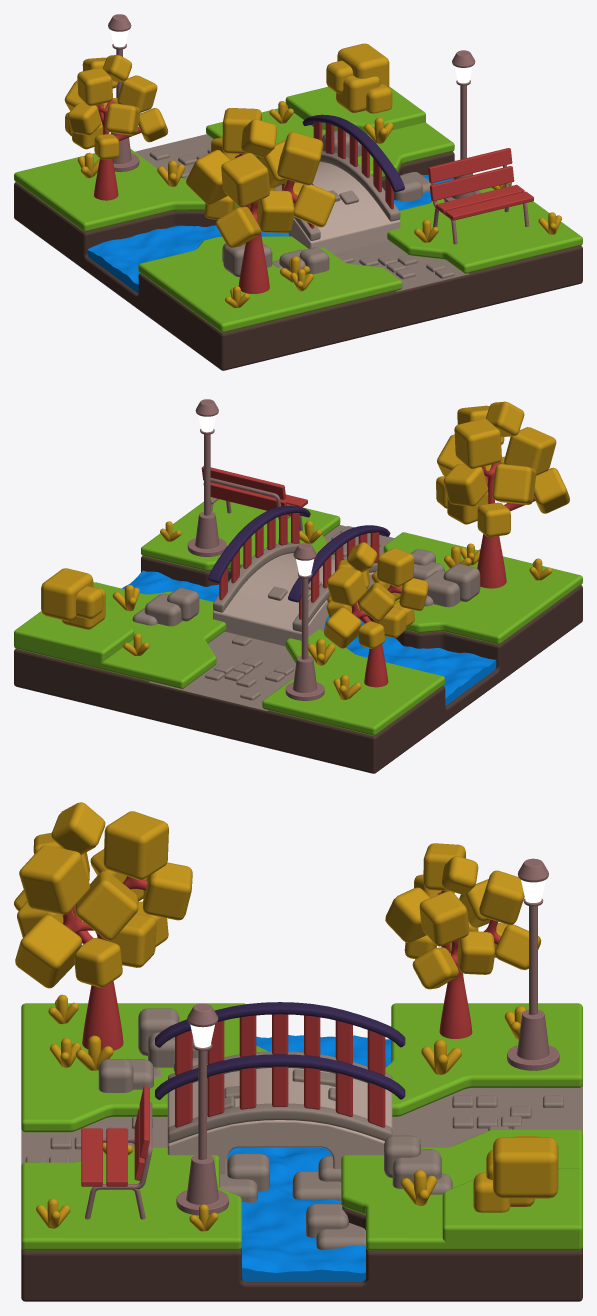
The model's file is park.glb.
The picture shows the model from 3 angles, top to bottom: view 1: azimuth 30°, elevation 25°; view 2: azimuth 150°, elevation 25°; view 3: azimuth 270°, elevation 25°; orthographic projection. The views are drawn at different scales.
Visible parts, largest first — view 1: Grass.001, Ground, Cube.002, Rock.004, Bench, Bridge, Plane, Grass.005, Path, Grass.002, Lamp.001, Tile.017 (+5 smaller); view 2: Grass.001, Ground, Cube.002, Rock.004, Bridge, Plane, Lamp.001, Path, Grass.002, Grass.005, Plane.002, Plane.003 (+5 smaller); view 3: Grass.001, Cube.002, Ground, Rock.004, Plane, Plane.002, Path, Bridge, Lamp.001, Grass.002, Plane.003, Grass.005 (+5 smaller).
Part boxes in pixels (bbox=[...]): Grass.001: bbox=[14, 108, 582, 332]; Ground: bbox=[14, 152, 582, 370]; Cube.002: bbox=[64, 55, 335, 247]; Rock.004: bbox=[222, 43, 431, 276]; Bench: bbox=[428, 148, 533, 220]; Bridge: bbox=[288, 162, 400, 253]; Plane: bbox=[87, 174, 453, 293]; Grass.005: bbox=[77, 101, 561, 307]; Path: bbox=[135, 134, 469, 291]; Grass.002: bbox=[285, 86, 425, 134]; Lamp.001: bbox=[108, 14, 481, 201]; Tile.017: bbox=[149, 148, 454, 279]; Grass.001: bbox=[14, 497, 582, 735]; Ground: bbox=[14, 556, 582, 773]; Cube.002: bbox=[324, 401, 569, 648]; Rock.004: bbox=[41, 549, 480, 629]; Bridge: bbox=[213, 553, 373, 646]; Plane: bbox=[122, 570, 496, 706]; Lamp.001: bbox=[187, 399, 324, 700]; Path: bbox=[149, 525, 394, 710]; Grass.002: bbox=[14, 603, 134, 669]; Grass.005: bbox=[112, 502, 552, 699]; Plane.002: bbox=[219, 513, 379, 619]; Plane.003: bbox=[208, 505, 390, 602]; Grass.001: bbox=[21, 1003, 582, 1250]; Cube.002: bbox=[14, 802, 541, 989]; Ground: bbox=[21, 1084, 582, 1301]; Rock.004: bbox=[98, 1008, 558, 1250]; Plane: bbox=[227, 1035, 391, 1281]; Plane.002: bbox=[175, 1014, 385, 1127]; Path: bbox=[21, 1085, 582, 1165]; Bridge: bbox=[167, 1068, 392, 1174]; Lamp.001: bbox=[176, 858, 559, 1215]; Grass.002: bbox=[442, 1168, 582, 1250]; Plane.003: bbox=[155, 1002, 405, 1099]; Grass.005: bbox=[36, 994, 526, 1231].
Size of what is drawn, in the model's own units: 8 by 4.95 by 8.1.
